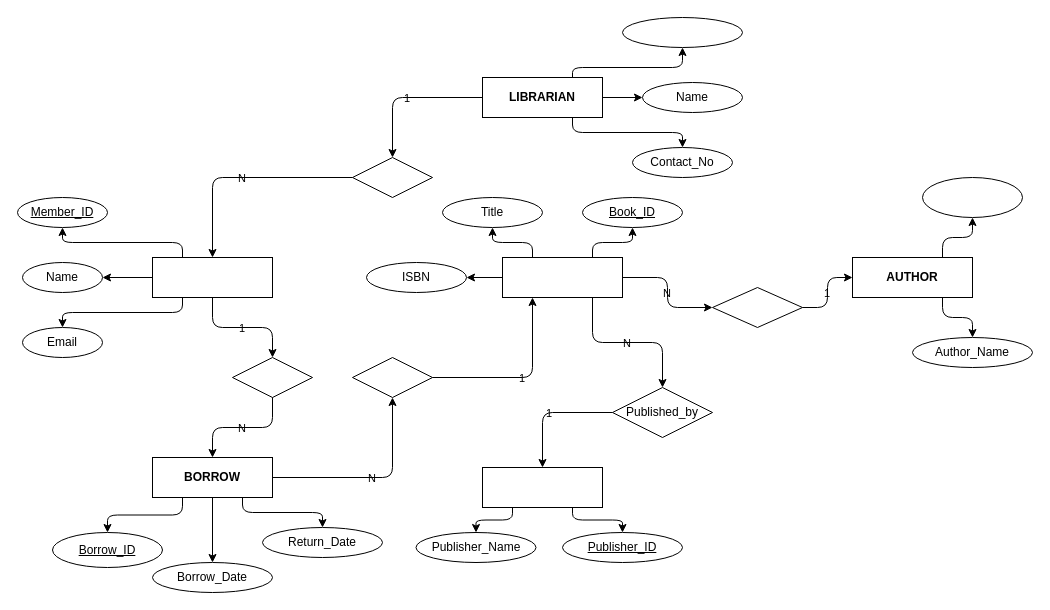
This 1050x610 diagram has some shape labels left out. Here are the shapes that lost their labels. From the top down, the centre of each, then its label:
point (682, 32): Librarian_ID
point (392, 177): Maintains
point (972, 197): Author_ID
point (212, 277): MEMBER
point (562, 277): BOOK
point (757, 307): Written_by
point (272, 377): Borrows
point (392, 377): Includes
point (542, 487): PUBLISHER
